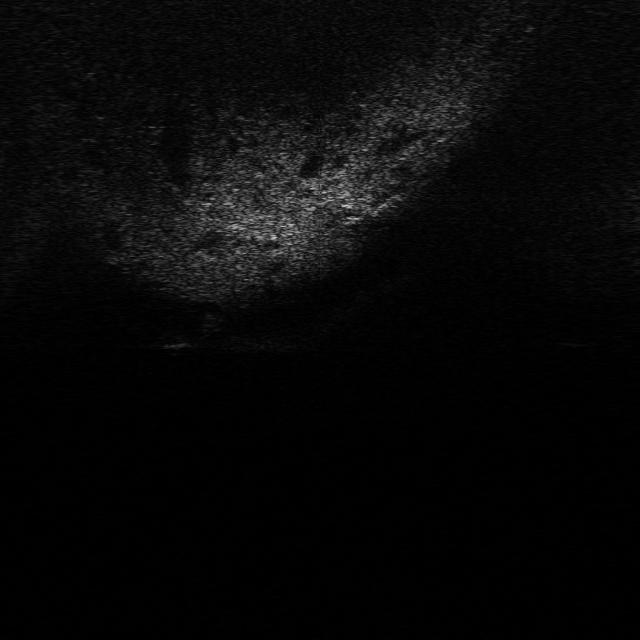cube: (157, 327, 194, 352)
cylinder: (200, 309, 224, 337)
